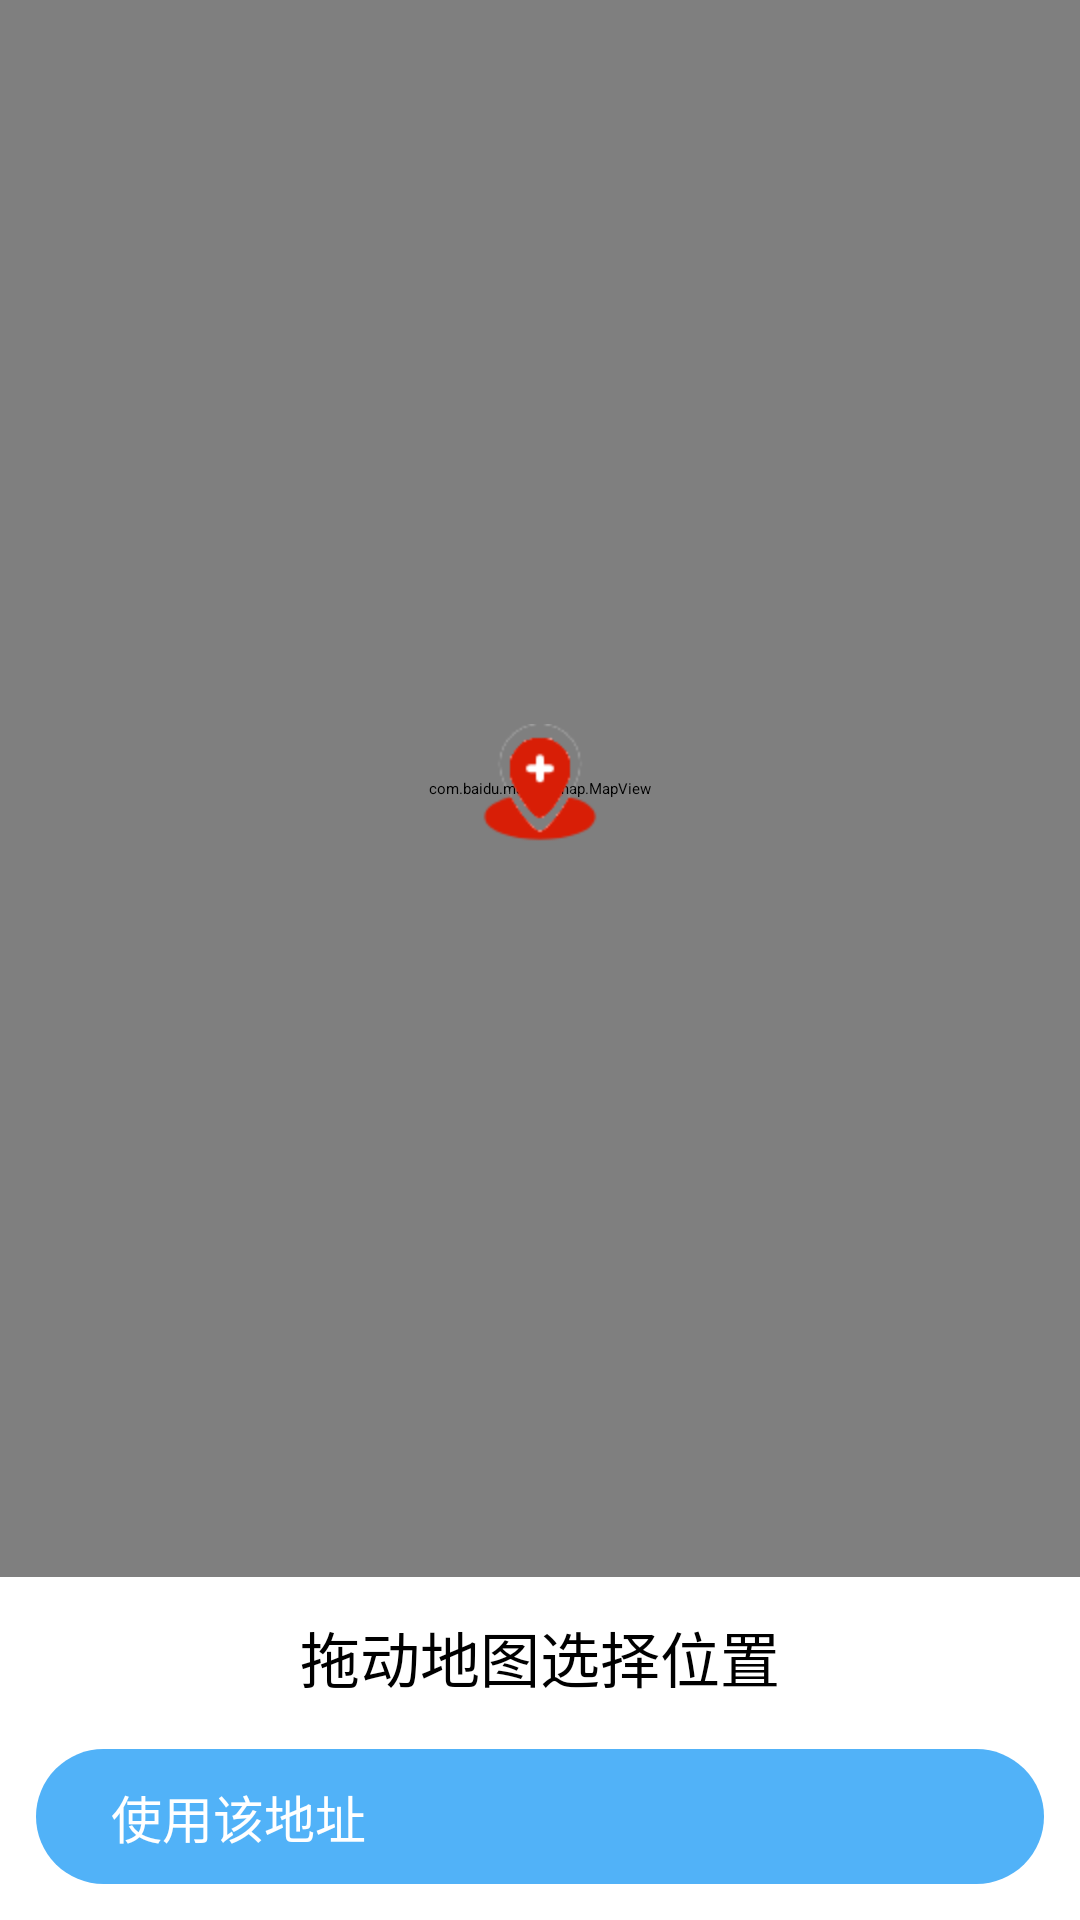

Where icons sit on this 1080*1920 app screen, as (x1, y1, x2, y2):
spoint: (476, 724, 604, 840)
